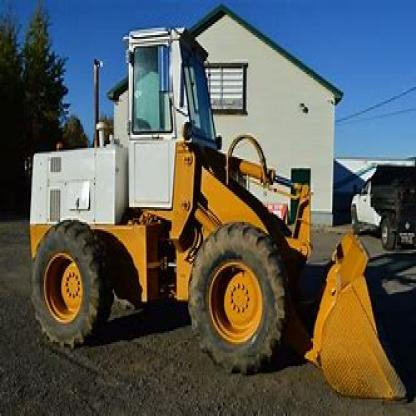bull_dozer/loader/grader: (19, 20, 415, 405)
